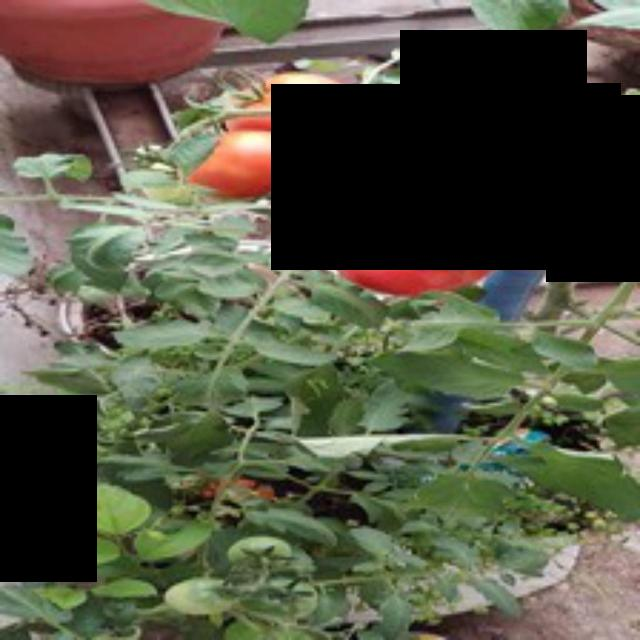tomato: (335, 200, 484, 304), (223, 60, 352, 144), (192, 120, 310, 211)
